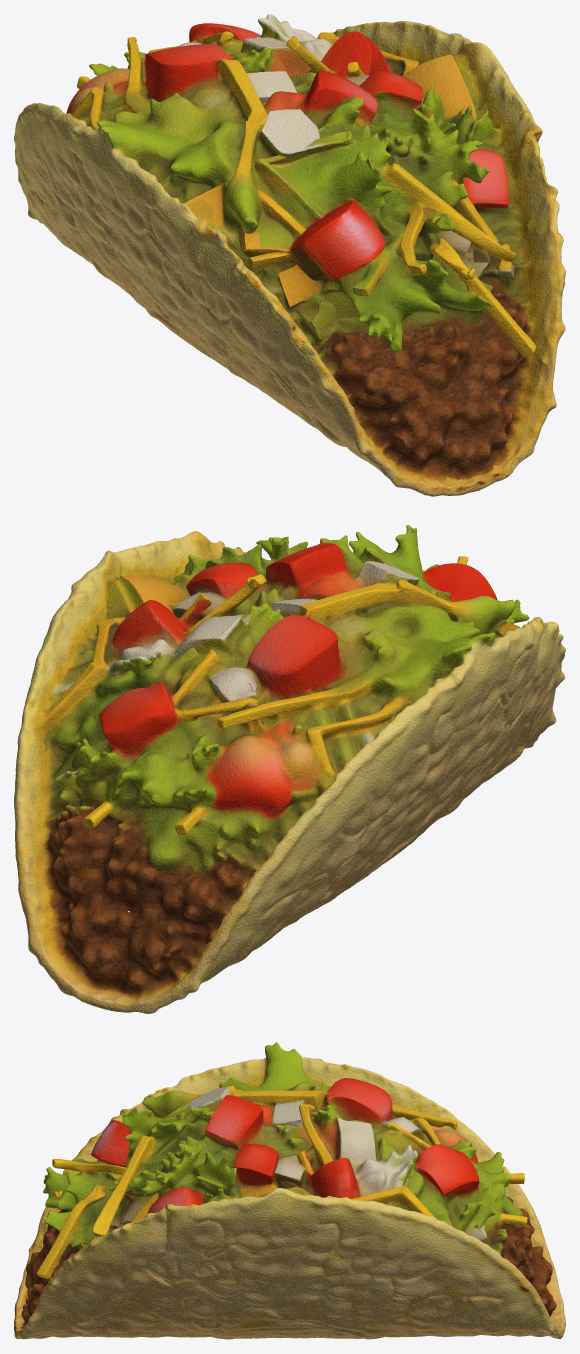
File: taco.glb
3 renders of one model, top to bottom at view 1: azimuth 30°, elevation 25°; view 2: azimuth 150°, elevation 25°; view 3: azimuth 270°, elevation 25°, orthographic. The views are drawn at different scales.
Parts seen in each view (by area): view 1: tripo_node_604fd38d-5785-42f5-8362-73150230e813; view 2: tripo_node_604fd38d-5785-42f5-8362-73150230e813; view 3: tripo_node_604fd38d-5785-42f5-8362-73150230e813.
Part boxes in pixels (x1,y1,x2,y2): tripo_node_604fd38d-5785-42f5-8362-73150230e813: [14, 14, 565, 496]; tripo_node_604fd38d-5785-42f5-8362-73150230e813: [14, 525, 565, 1013]; tripo_node_604fd38d-5785-42f5-8362-73150230e813: [14, 1042, 565, 1339].
Size of the model in its own units: 0.6123 by 0.4631 by 0.9979.
1 material, 1 textured.
